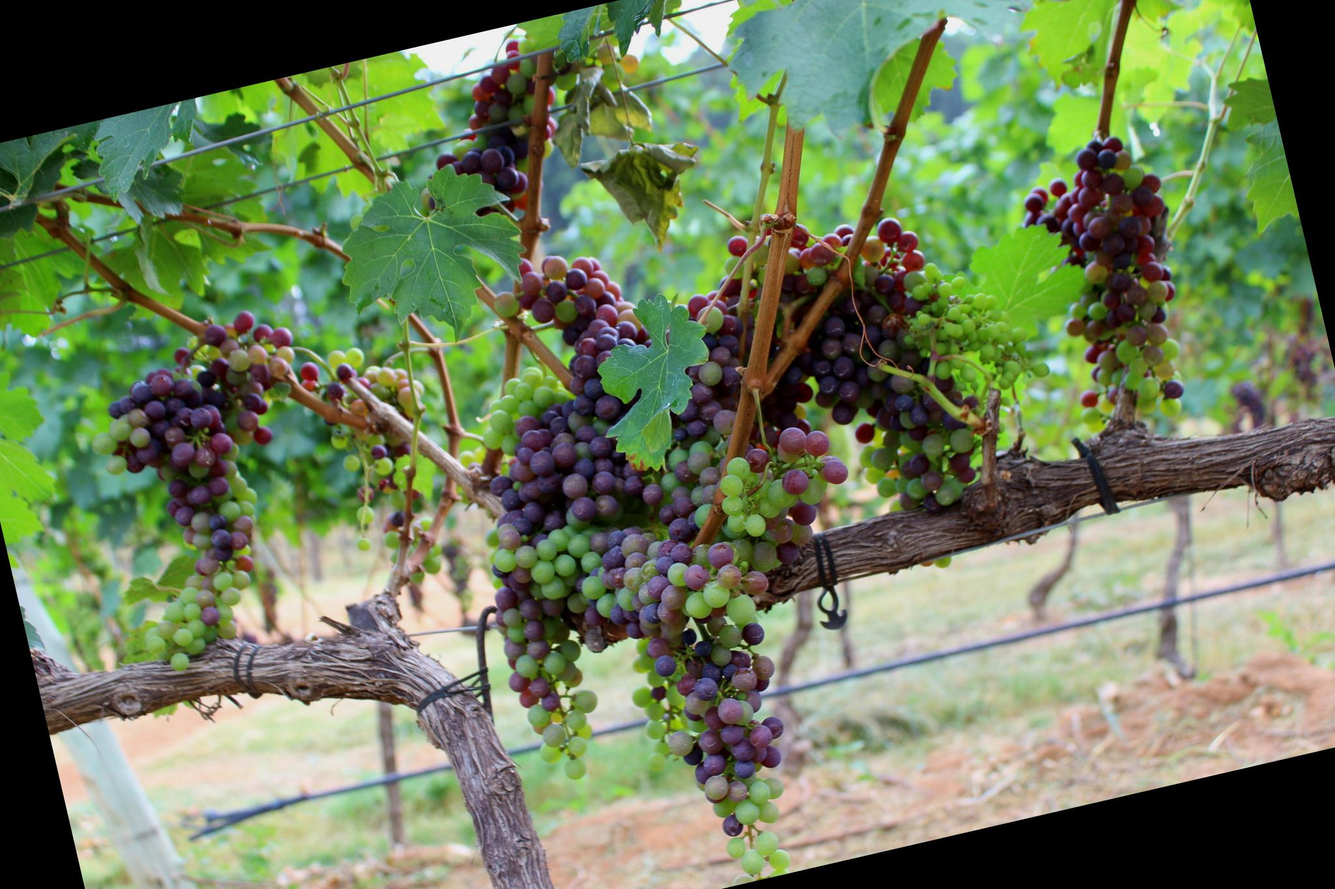Grape Ripe: (439, 396, 663, 571)
Grape Unripe: (911, 252, 1046, 408)
